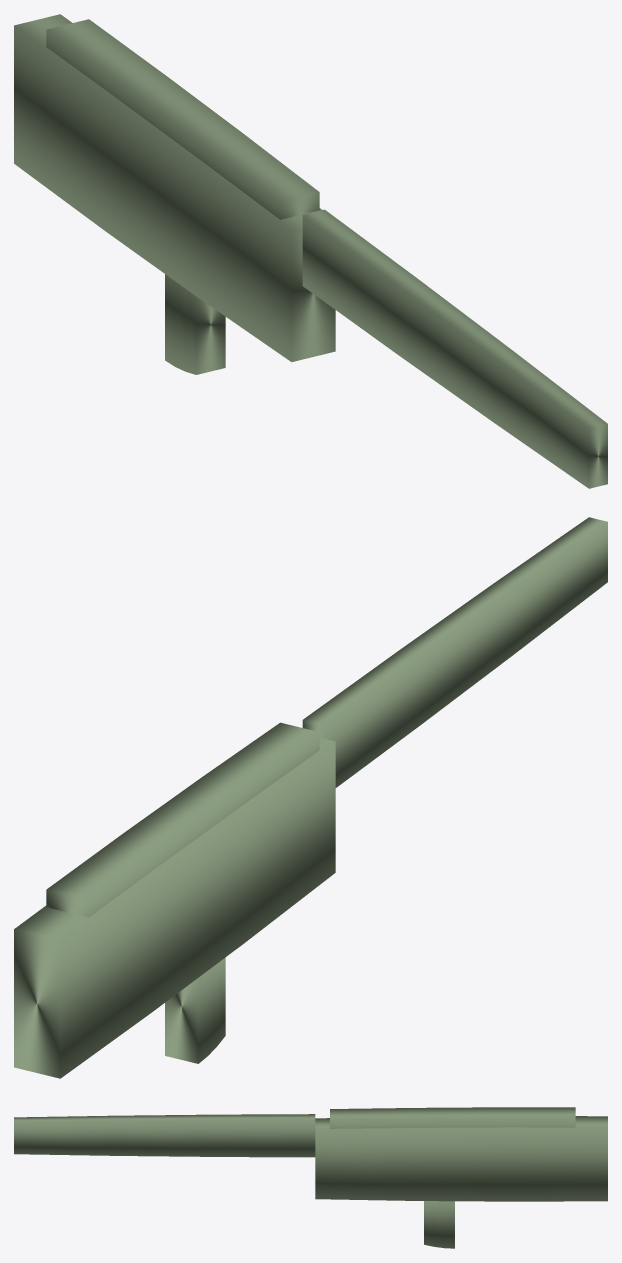
File: wpn_awm_l115a3.glb
3 views of the same model, one above another, from view 1: azimuth 30°, elevation 25°; view 2: azimuth 150°, elevation 25°; view 3: azimuth 270°, elevation 25° (orthographic). The views are drawn at different scales.
Visible parts, largest first — view 1: SubMesh_0_Receiver, SubMesh_3_BarrelSight, SubMesh_1_Action, SubMesh_2_Magazine; view 2: SubMesh_0_Receiver, SubMesh_3_BarrelSight, SubMesh_1_Action, SubMesh_2_Magazine; view 3: SubMesh_0_Receiver, SubMesh_3_BarrelSight, SubMesh_1_Action, SubMesh_2_Magazine.
Part boxes in pixels (x1,y1,x2,y2): SubMesh_0_Receiver: (14,14,335,362); SubMesh_3_BarrelSight: (302,209,607,488); SubMesh_1_Action: (46,19,319,219); SubMesh_2_Magazine: (165,274,225,374); SubMesh_0_Receiver: (14,737,335,1078); SubMesh_3_BarrelSight: (302,517,607,787); SubMesh_1_Action: (46,722,319,917); SubMesh_2_Magazine: (165,957,225,1063); SubMesh_0_Receiver: (315,1116,607,1201); SubMesh_3_BarrelSight: (14,1114,315,1157); SubMesh_1_Action: (330,1107,575,1128); SubMesh_2_Magazine: (424,1201,454,1248).
Bounding box in the file's own units: 0.0645 × 0.3274 × 1.34.
